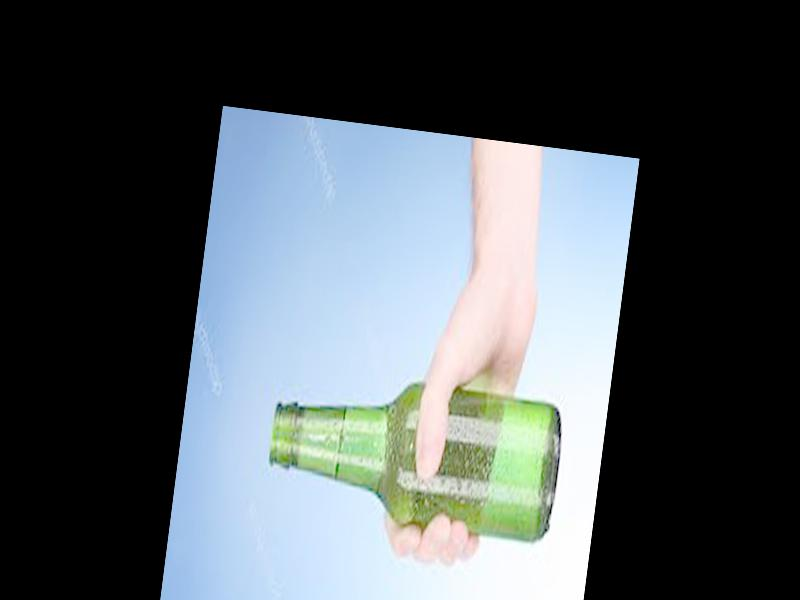Beer: (261, 368, 567, 541)
